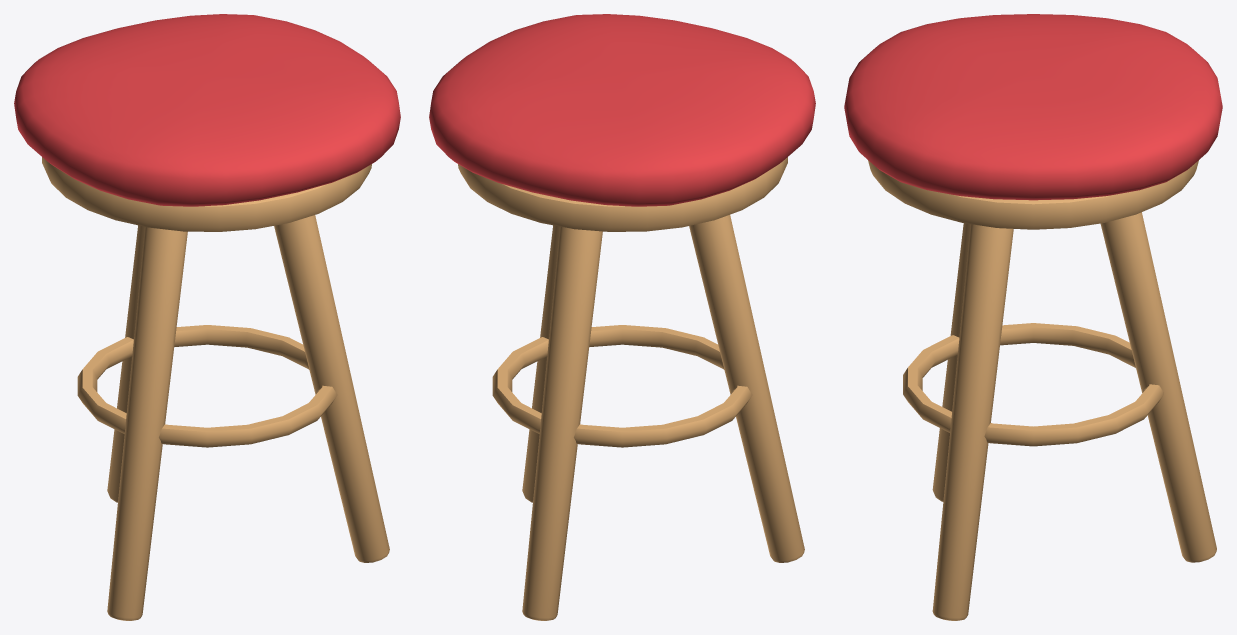
The model's file is banqueta_campestre.glb.
3 renders of one model, left to right at view 1: azimuth 30°, elevation 25°; view 2: azimuth 150°, elevation 25°; view 3: azimuth 270°, elevation 25°, orthographic.
Parts seen in each view (by area): view 1: banqueta_campestre; view 2: banqueta_campestre; view 3: banqueta_campestre.
Part boxes in pixels (x1,y1,x2,y2): banqueta_campestre: [14, 14, 400, 620]; banqueta_campestre: [429, 14, 815, 620]; banqueta_campestre: [844, 14, 1222, 620].
Bounding box in the file's own units: 0.34 × 0.4825 × 0.34.
Materials: 1 (1 with a texture image).
